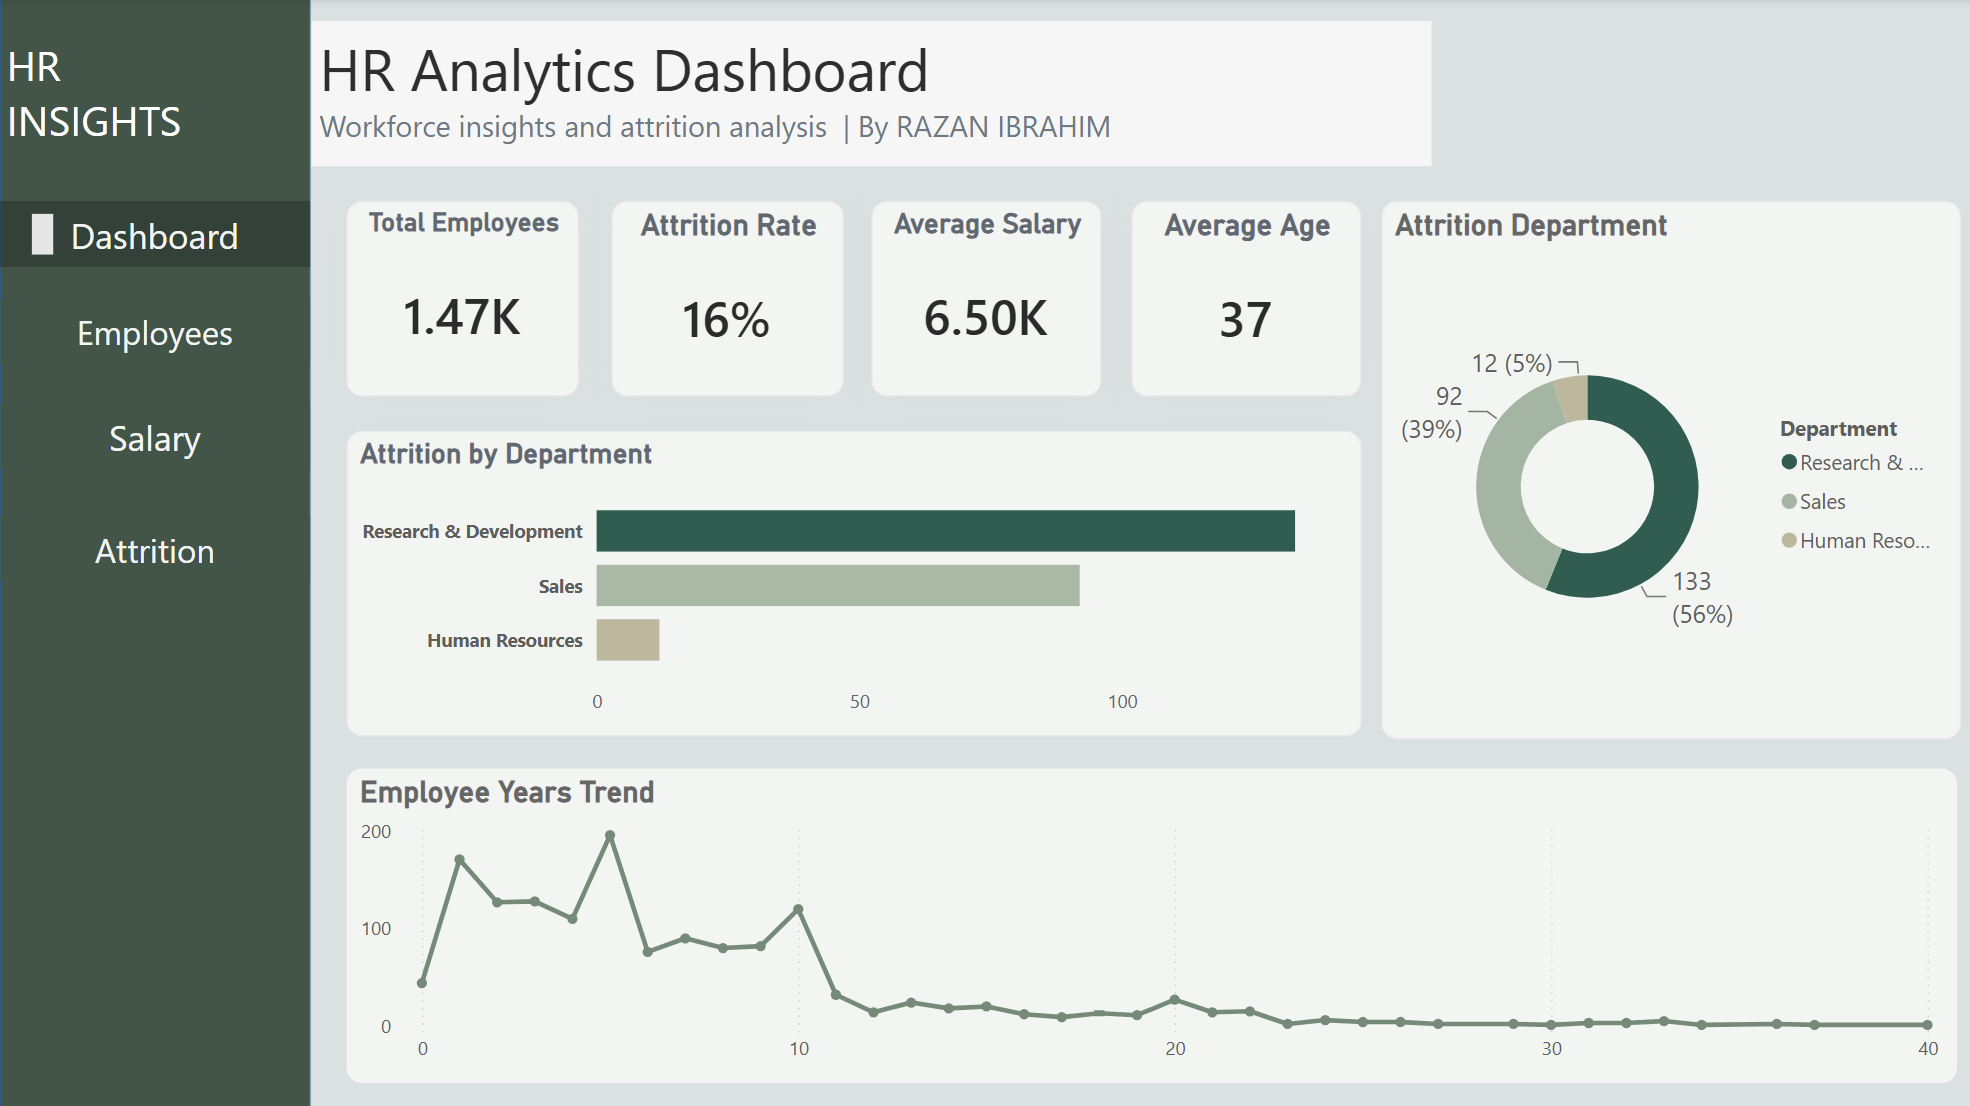

Layout of this report page (visuals, bound fields, positions):
{"tool":"powerbi","page":{"name":"Exeecutive Overview","canvas":[1280,720],"ordinal":0},"visuals":[{"type":"cardVisual","title":"Total Employees","fields":{"Data":["CountNonNull(WA_Fn-UseC_-HR-Employee-Attrition.EmployeeCount)"]},"box":[225,132.7,150.5,126.3],"z":0},{"type":"cardVisual","title":"Attrition Rate","fields":{"Data":["WA_Fn-UseC_-HR-Employee-Attrition.Attrition Rate"]},"box":[396.6,132.7,150.5,126.3],"z":1000},{"type":"cardVisual","title":"Average Salary","fields":{"Data":["Avg(WA_Fn-UseC_-HR-Employee-Attrition.MonthlyIncome)"]},"box":[564.9,132.7,148.9,126.3],"z":2000},{"type":"cardVisual","title":"Average Age","fields":{"Data":["WA_Fn-UseC_-HR-Employee-Attrition.Average Age Rounded"]},"box":[733.3,132.7,148.9,126.3],"z":3000},{"type":"textbox","box":[202.3,16.2,725.2,93.9],"z":4000},{"type":"clusteredBarChart","title":"Attrition by Department","fields":{"Category":["WA_Fn-UseC_-HR-Employee-Attrition.Department"],"Y":["CountNonNull(WA_Fn-UseC_-HR-Employee-Attrition.EmployeeCount)"]},"box":[225,281.7,657.2,197.5],"z":5000},{"type":"donutChart","title":"Attrition Department","fields":{"Category":["WA_Fn-UseC_-HR-Employee-Attrition.Department"],"Y":["CountNonNull(WA_Fn-UseC_-HR-Employee-Attrition.EmployeeCount)"]},"box":[894.6,132.1,375,348.2],"z":6000},{"type":"shape","box":[0,0,201.8,719.6],"z":7000},{"type":"lineChart","title":"Employee Years Trend","fields":{"Category":["WA_Fn-UseC_-HR-Employee-Attrition.YearsAtCompany"],"Y":["CountNonNull(WA_Fn-UseC_-HR-Employee-Attrition.EmployeeCount)"]},"box":[225,500,1042.9,203.6],"z":8000},{"type":"actionButton","box":[0,132.1,201.8,42.9],"z":9000},{"type":"actionButton","box":[0,196.4,201.8,42.9],"z":10000},{"type":"actionButton","box":[0,337.5,201.8,42.9],"z":11000},{"type":"actionButton","box":[0,264.3,201.8,42.9],"z":12000},{"type":"shape","box":[21.4,141.1,14.3,26.8],"z":13000},{"type":"textbox","box":[0,21.4,201.8,82.1],"z":14000}]}

Visuals, with their boxes on the page's 1280x720 design canvas (x1, y1, x2, y2). These are canvas units, not pixel positions in the 1970x1106 screenshot, which may show the page scaled, cropped or inside an application window:
"Total Employees" cardVisual: {"x1": 225, "y1": 133, "x2": 376, "y2": 259}
"Attrition Rate" cardVisual: {"x1": 397, "y1": 133, "x2": 547, "y2": 259}
"Average Salary" cardVisual: {"x1": 565, "y1": 133, "x2": 714, "y2": 259}
"Average Age" cardVisual: {"x1": 733, "y1": 133, "x2": 882, "y2": 259}
textbox: {"x1": 202, "y1": 16, "x2": 928, "y2": 110}
"Attrition by Department" clusteredBarChart: {"x1": 225, "y1": 282, "x2": 882, "y2": 479}
"Attrition Department" donutChart: {"x1": 895, "y1": 132, "x2": 1270, "y2": 480}
shape: {"x1": 0, "y1": 0, "x2": 202, "y2": 720}
"Employee Years Trend" lineChart: {"x1": 225, "y1": 500, "x2": 1268, "y2": 704}
actionButton: {"x1": 0, "y1": 132, "x2": 202, "y2": 175}
actionButton: {"x1": 0, "y1": 196, "x2": 202, "y2": 239}
actionButton: {"x1": 0, "y1": 338, "x2": 202, "y2": 380}
actionButton: {"x1": 0, "y1": 264, "x2": 202, "y2": 307}
shape: {"x1": 21, "y1": 141, "x2": 36, "y2": 168}
textbox: {"x1": 0, "y1": 21, "x2": 202, "y2": 104}
